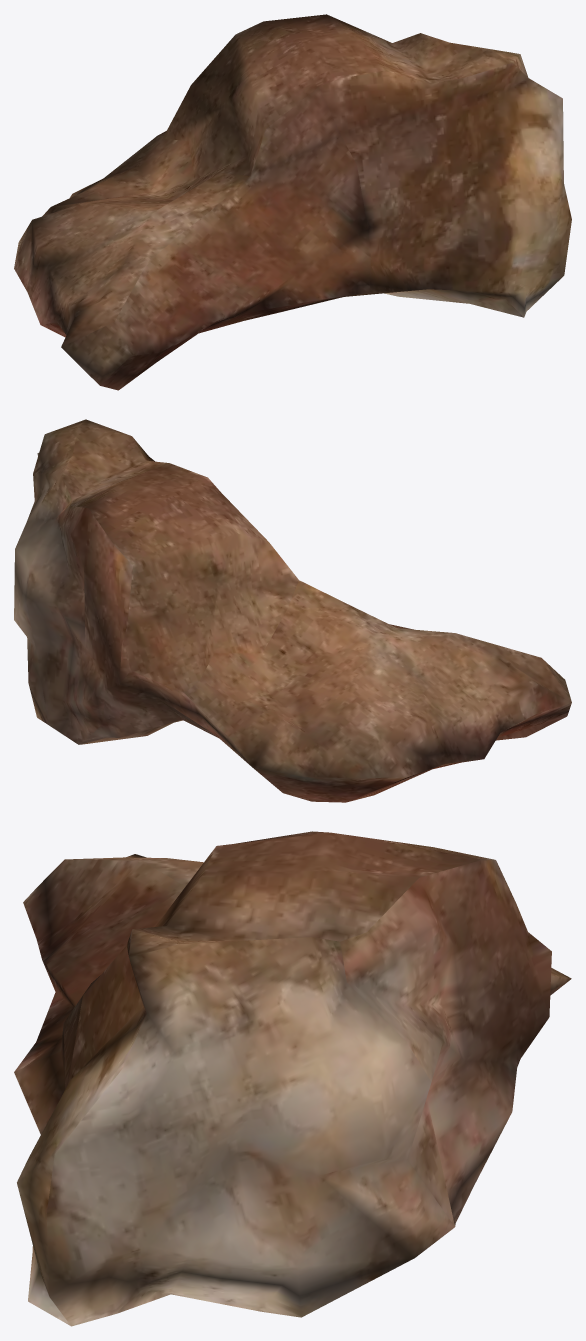
File: piedra_01.glb
3 views of the same model, one above another, from view 1: azimuth 30°, elevation 25°; view 2: azimuth 150°, elevation 25°; view 3: azimuth 270°, elevation 25° (orthographic). The views are drawn at different scales.
Visible parts, largest first — view 1: stone_01; view 2: stone_01; view 3: stone_01.
Boxes of the visible parts, x1=… form: stone_01: x1=14, y1=14, x2=571, y2=390; stone_01: x1=14, y1=419, x2=571, y2=802; stone_01: x1=14, y1=831, x2=571, y2=1326.
Bounding box in the file's own units: 0.146 × 0.0704 × 0.0875.
1 material, 1 textured.
